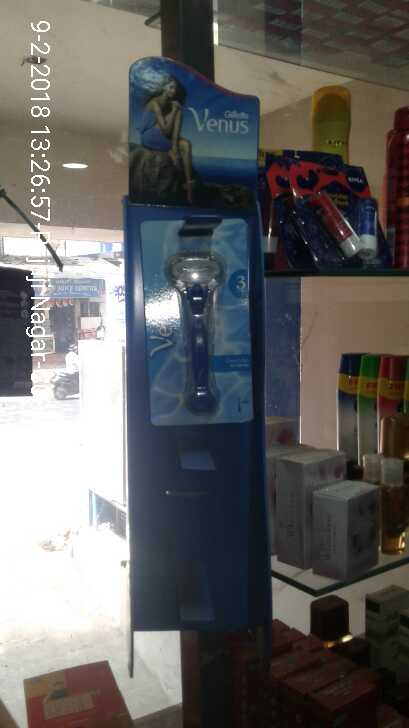beauty: (141, 220, 259, 422)
